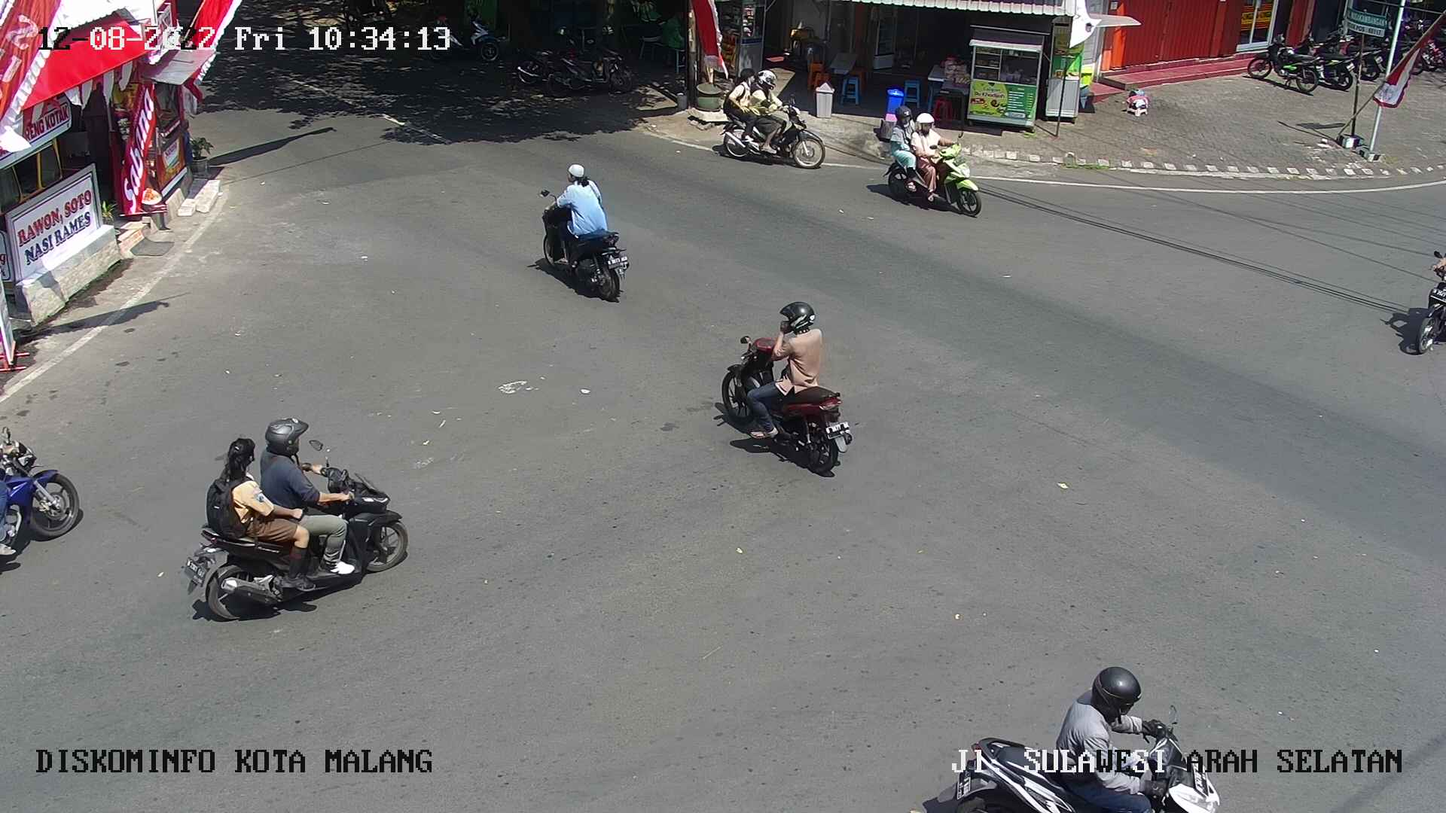with_helmet: (919, 659, 1230, 813), (710, 293, 857, 492), (882, 102, 983, 221)
without_helmet: (166, 407, 423, 624), (528, 158, 646, 306), (714, 59, 831, 180)
